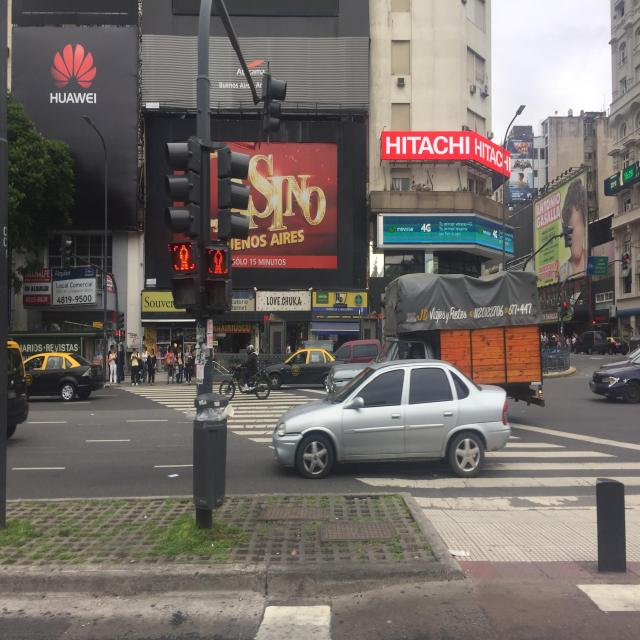Good: (318, 517, 396, 546), (256, 503, 324, 523)
